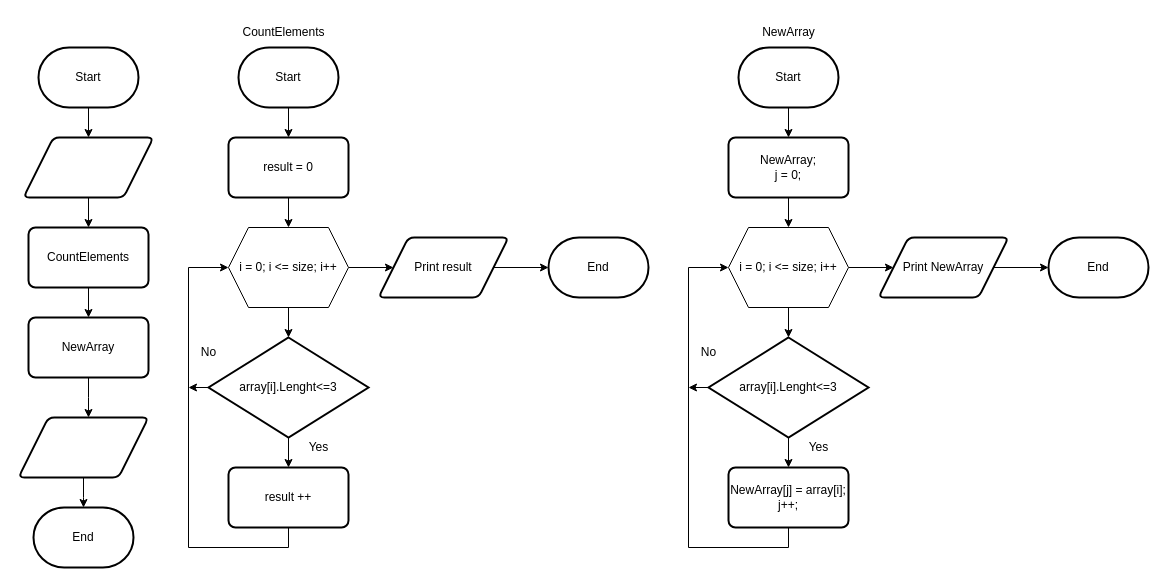
This 1166x585 diagram has some shape labels left out. The centre of each missing label's shape, as x and y in pixels:
"GetArray" goes at point (88, 167).
"PrintArray" goes at point (83, 447).
